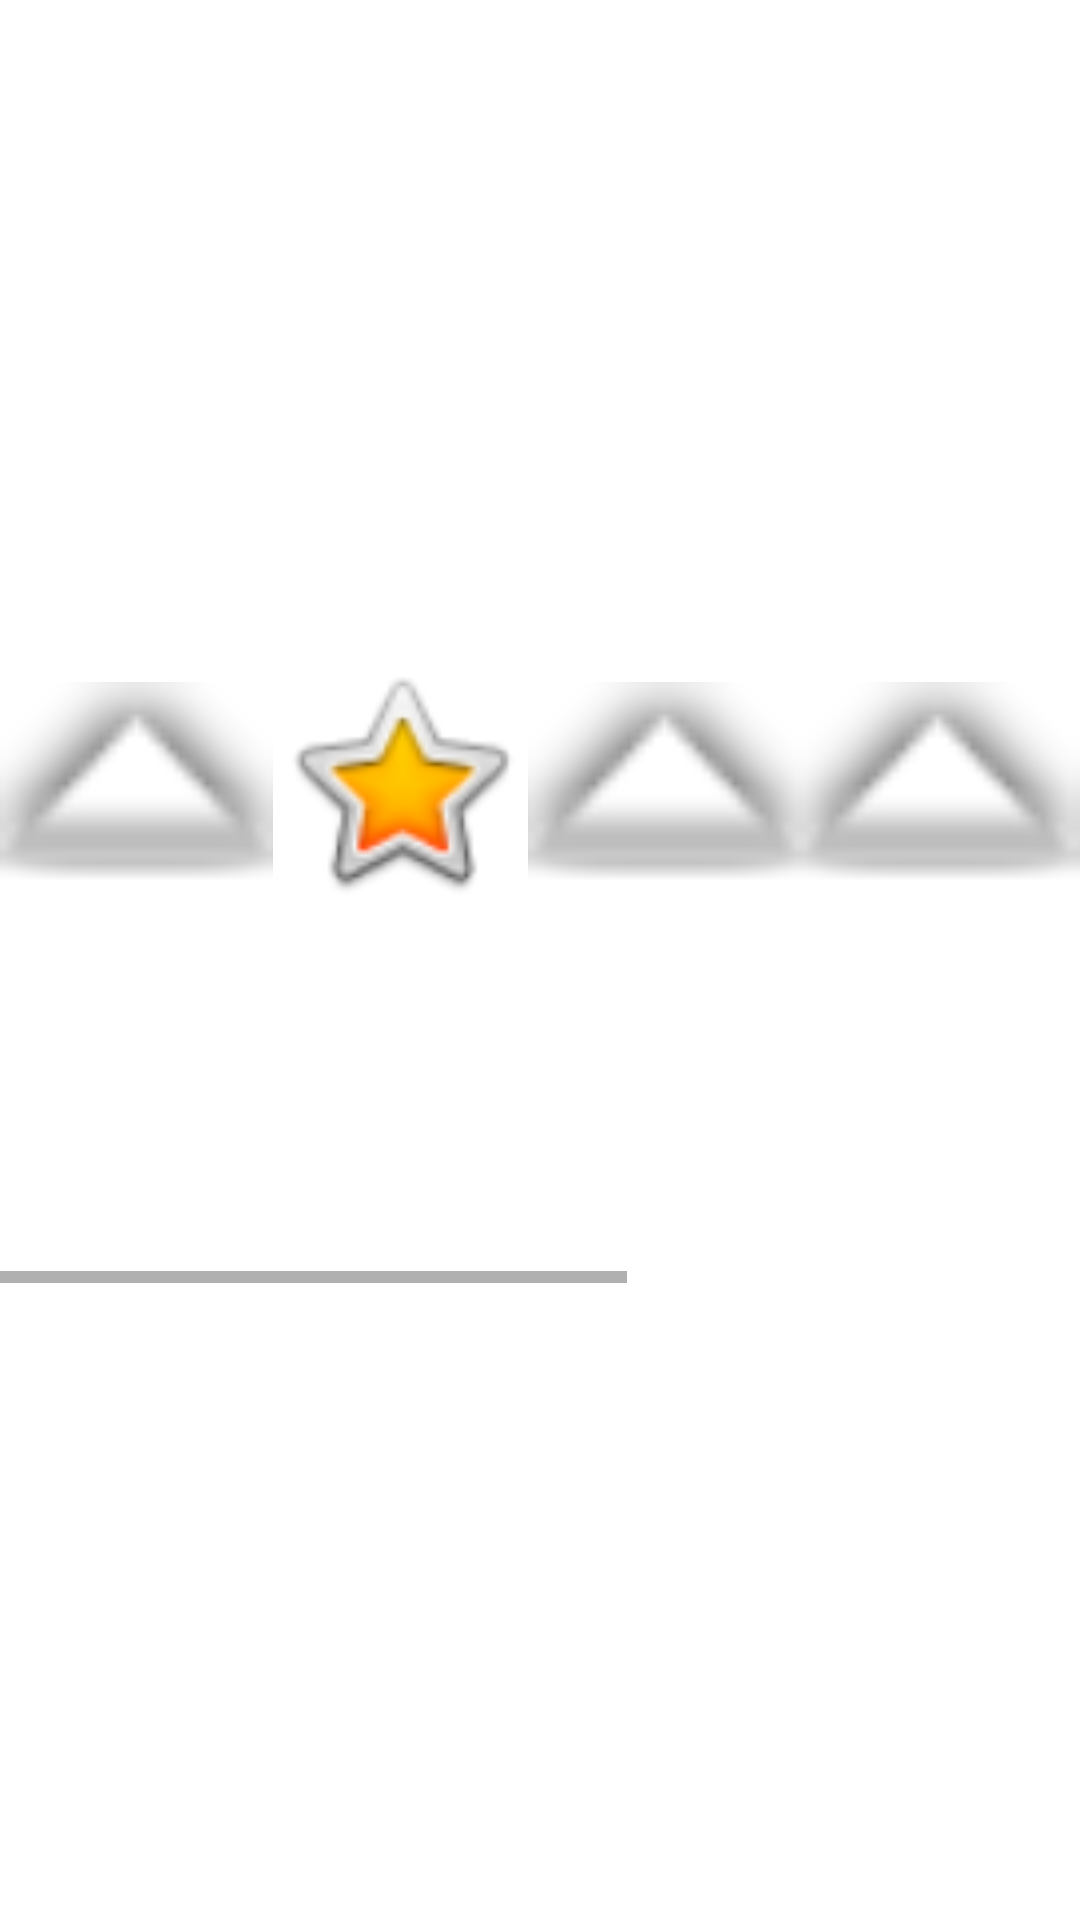

Point at icon controls on the screen. Image size 1080×1920, points as (x,y).
star on: (402,784)
